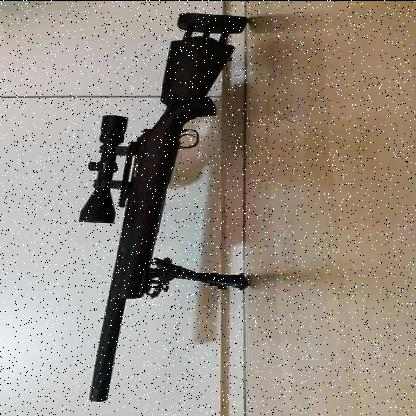rifle: (27, 2, 283, 403)
